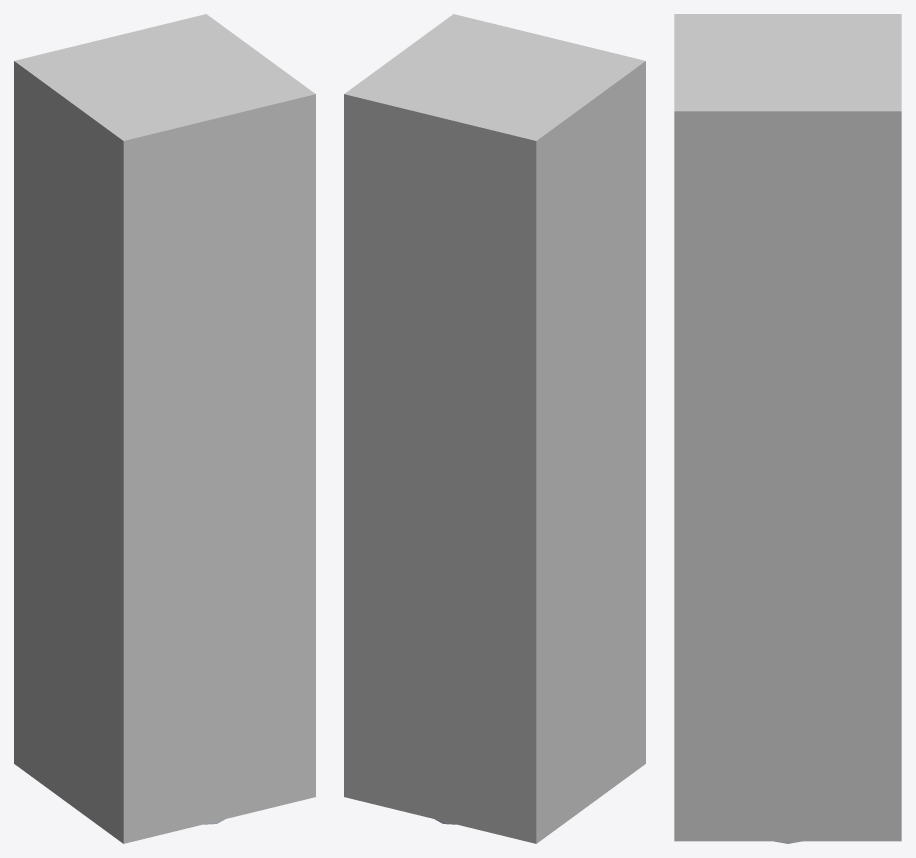
File: Scene_Build_TianShan_ZhuZi_3.FBX
The picture shows the model from 3 angles, left to right: view 1: azimuth 30°, elevation 25°; view 2: azimuth 150°, elevation 25°; view 3: azimuth 270°, elevation 25°; orthographic projection. The views are drawn at different scales.
Parts seen in each view (by area): view 1: Scene_Build_TianShan_ZhuZi_3_Xzm; view 2: Scene_Build_TianShan_ZhuZi_3_Xzm; view 3: Scene_Build_TianShan_ZhuZi_3_Xzm.
Part boxes in pixels (x1=…): Scene_Build_TianShan_ZhuZi_3_Xzm: x1=14, y1=14, x2=315, y2=843; Scene_Build_TianShan_ZhuZi_3_Xzm: x1=344, y1=14, x2=645, y2=843; Scene_Build_TianShan_ZhuZi_3_Xzm: x1=674, y1=14, x2=901, y2=841.
Size of the model in its own units: 79.47 by 280 by 78.36.
